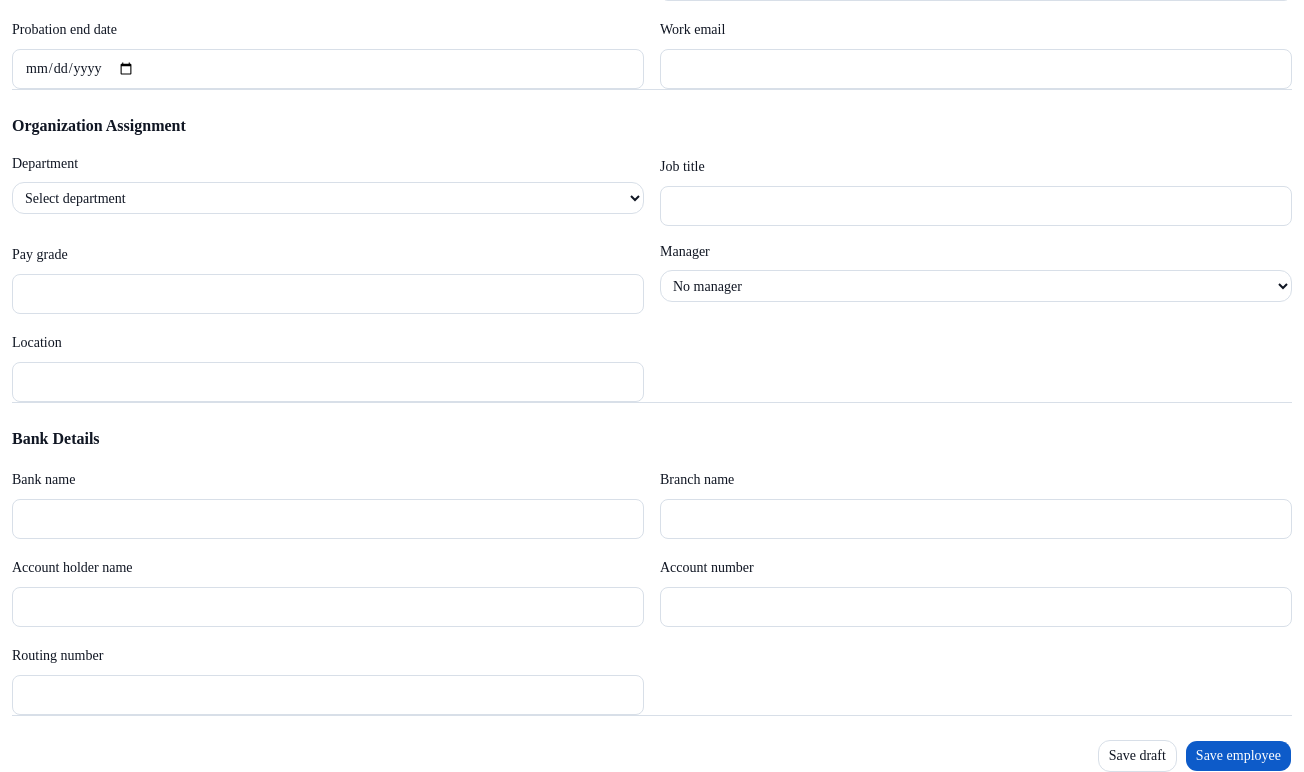
Scenario: EmployeeForm › shows required field validation errors
(page scrolled)
Click the button "Save employee" at coordinates (1238, 756), box top-left (1185, 740), bottom-right (1292, 771)
(page scrolled)
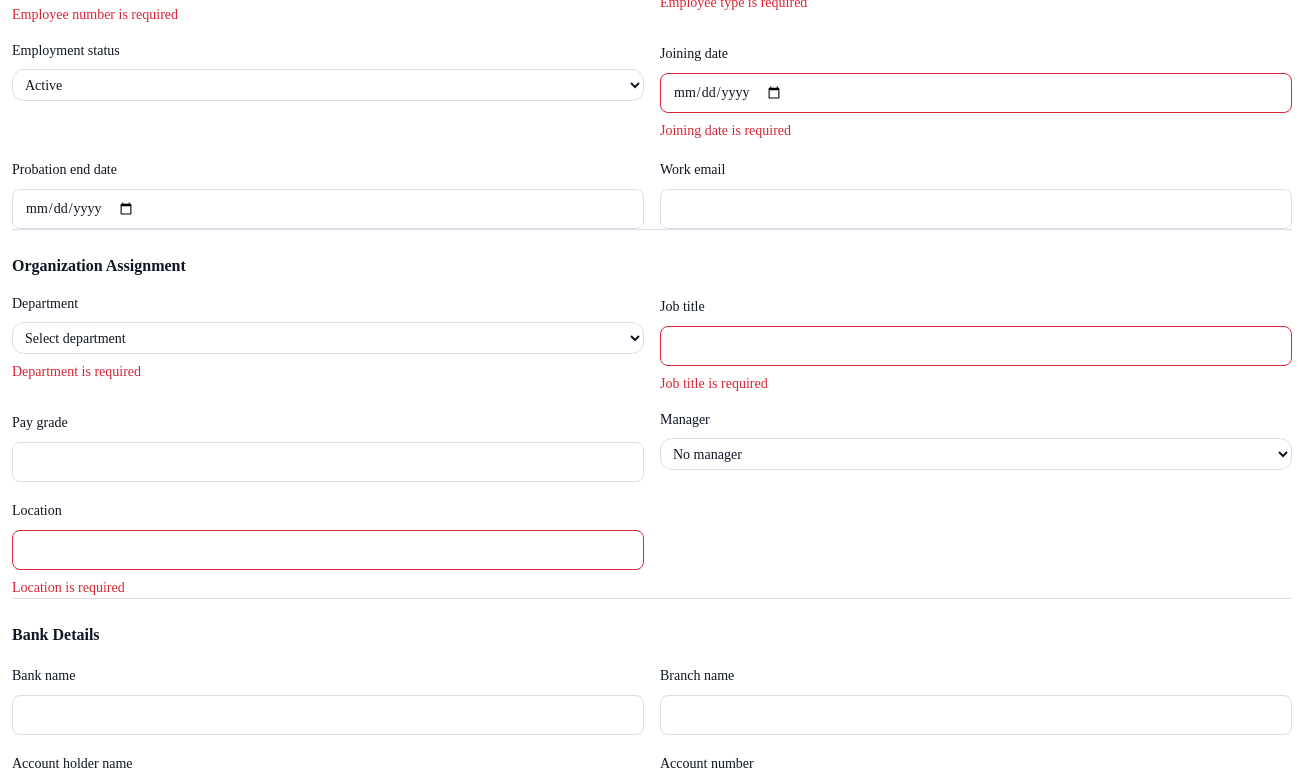
expect the text "Employee number is required" is shown: met, box top-left (12, 7), bottom-right (178, 22)
expect the text "Department is required" is shown: met, box top-left (12, 364), bottom-right (141, 379)
